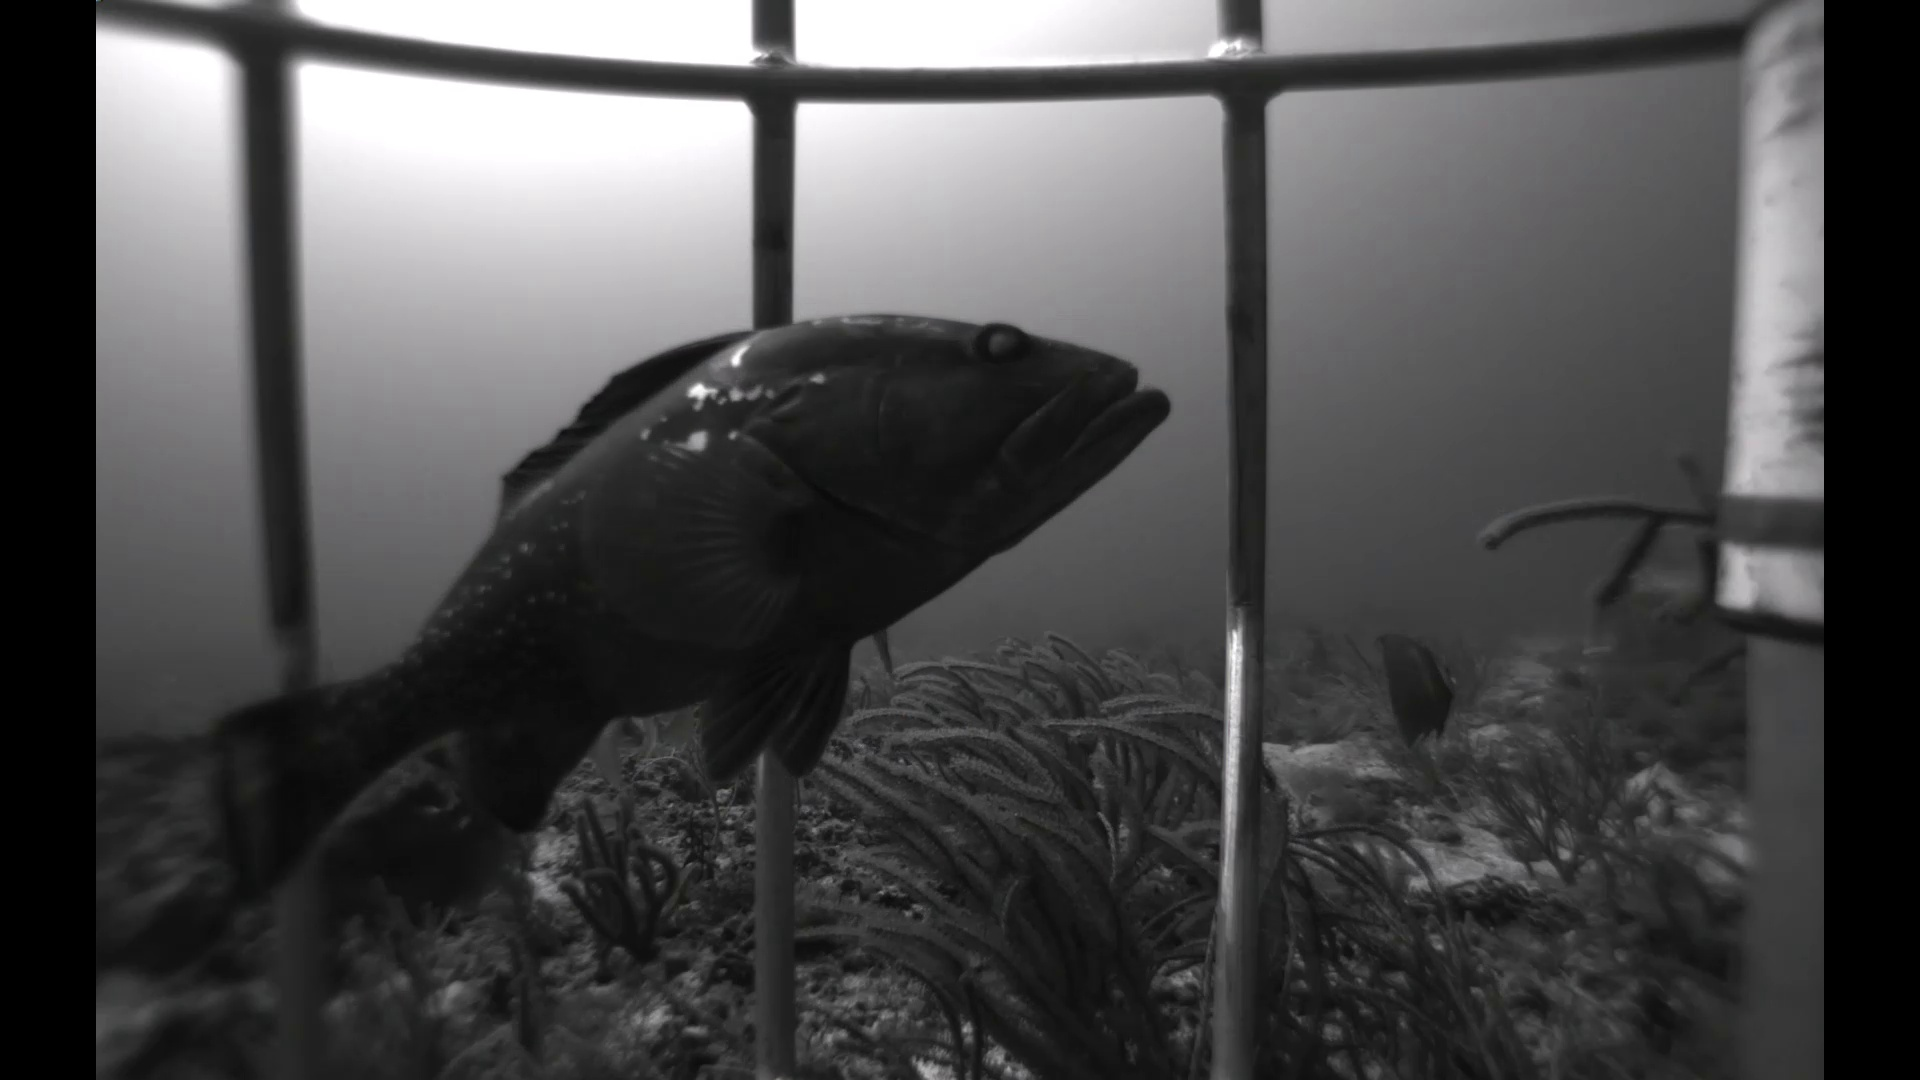CALAMUSNODOSUS-170210608: (1569, 516, 1735, 686), (585, 712, 628, 804)
EPINEPHELUSMORIO-170021211: (150, 282, 1197, 967), (320, 713, 563, 942), (1725, 650, 1749, 679)
LUTJANUSGRISEUS-170151109: (611, 696, 655, 761)
POMACANTHUSARCUATUS-170290201: (1367, 624, 1469, 758)
